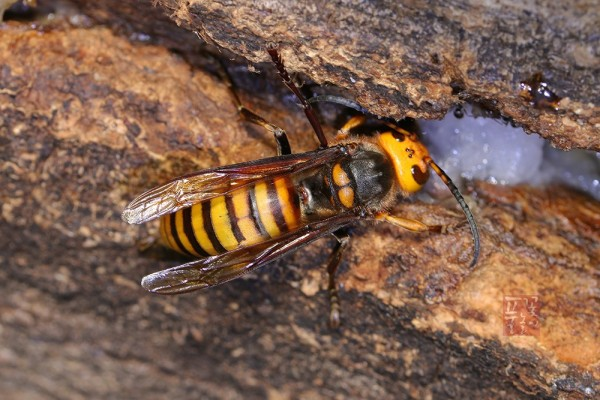asian_giant_hornet: (154, 121, 453, 269)
